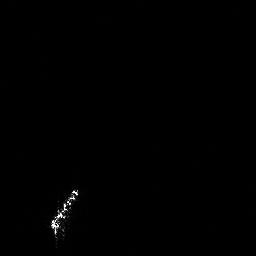ship: (45, 181, 83, 244)
